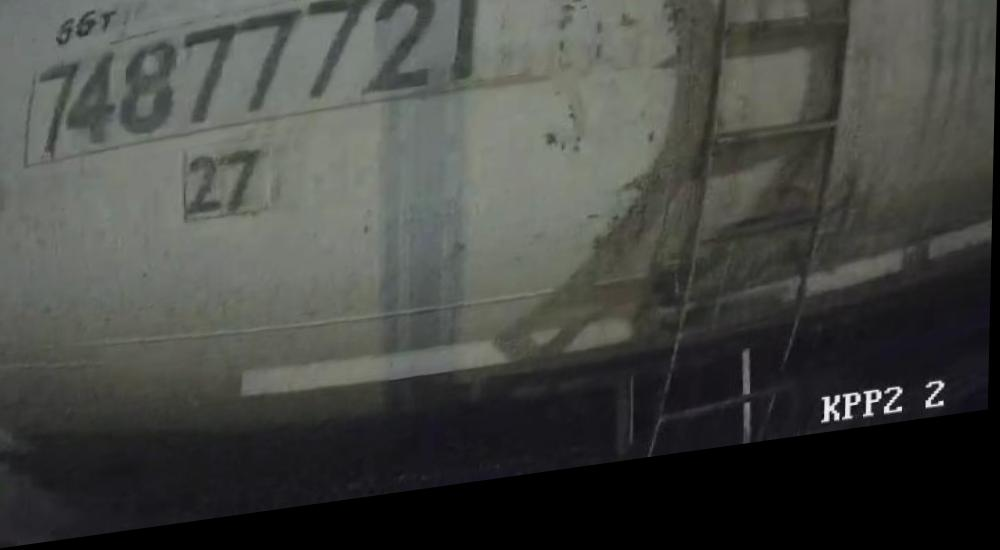Wagon-number: (38, 0, 482, 154)
